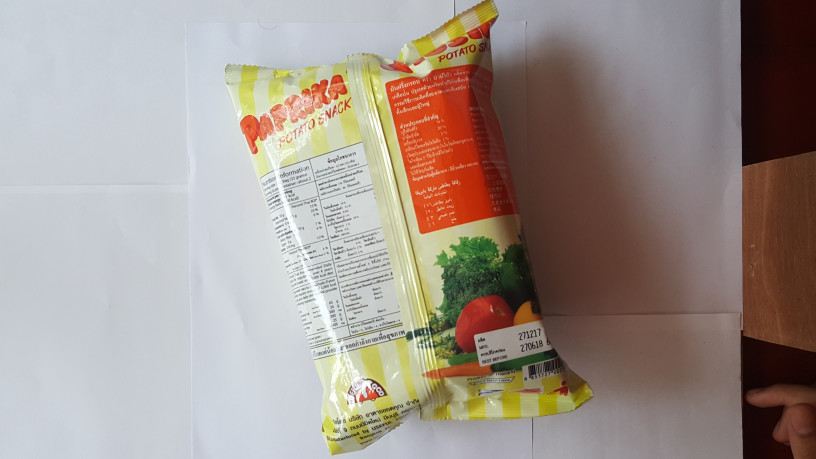paprika: (217, 6, 611, 457)
